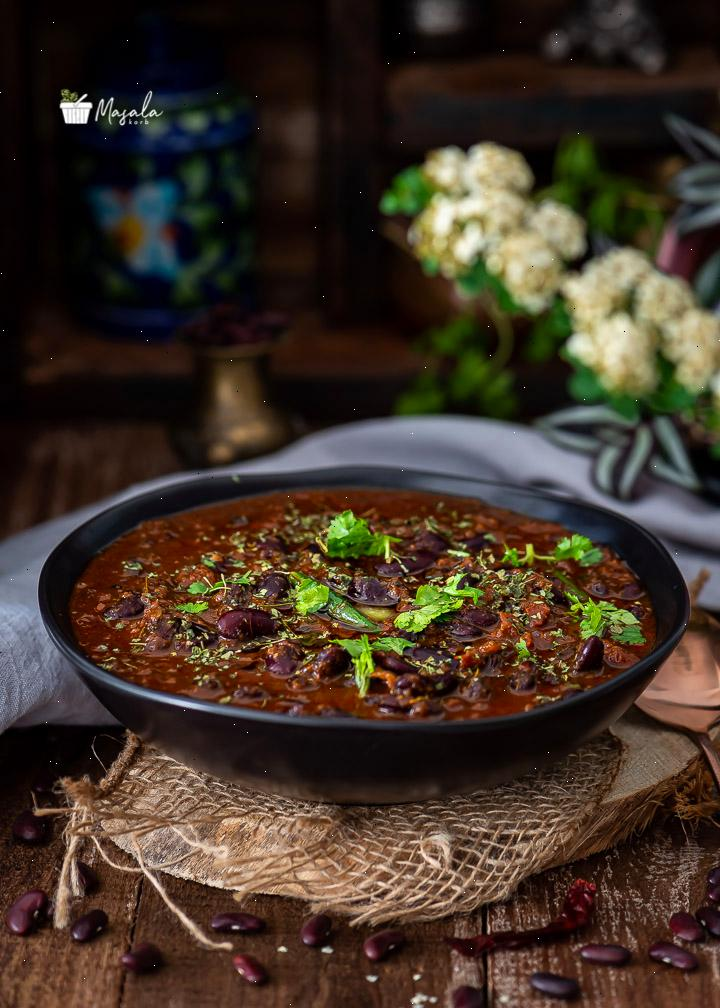rajma: (90, 502, 660, 715)
